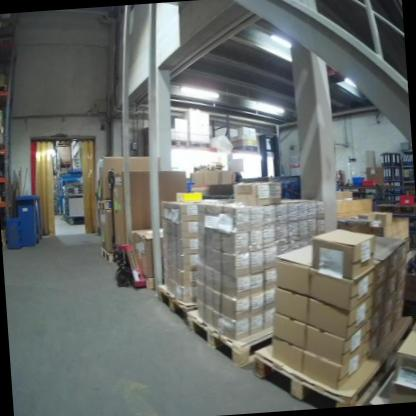pallet: (245, 316, 416, 413), (184, 305, 277, 373), (156, 282, 197, 325), (0, 34, 14, 47), (0, 84, 9, 92)
pallet_truck: (100, 163, 152, 288)
small_load_carrier: (397, 193, 416, 207), (363, 178, 380, 190), (351, 177, 363, 189)
